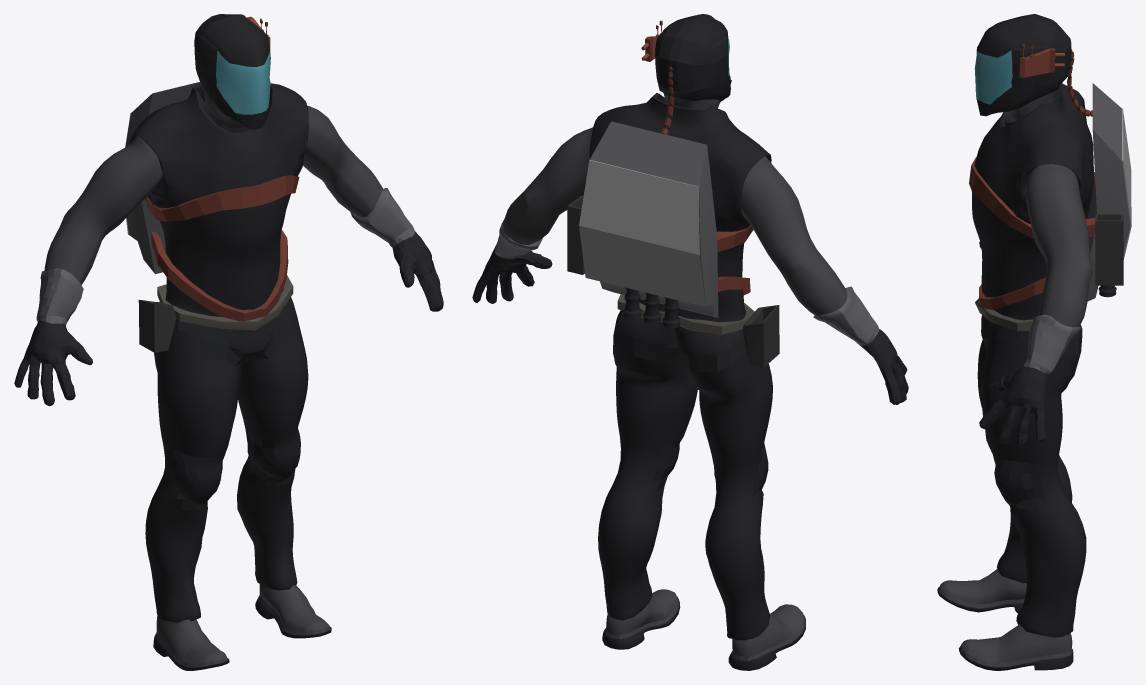
File: Astronauta.fbx
The picture shows the model from 3 angles, left to right: view 1: azimuth 30°, elevation 25°; view 2: azimuth 150°, elevation 25°; view 3: azimuth 270°, elevation 25°; orthographic projection.
Parts seen in each view (by area): view 1: Body, Restraint_Top, Backpack, Restraints_Bottom, Gun_Holster, Belt; view 2: Body, BackpackCover, Backpack, Gun_Holster, Belt, Shotgun_Holster; view 3: Body, Backpack, Shotgun_Holster, Restraint_Top, Restraints_Bottom, Illumination_System, BackpackCover, Belt, Oxygen_Tube.
Part boxes in pixels (<box>): Body: <box>14,14,443,670</box>; Restraint_Top: <box>144,175,299,221</box>; Backpack: <box>125,82,200,273</box>; Restraints_Bottom: <box>151,229,288,321</box>; Gun_Holster: <box>138,300,176,352</box>; Belt: <box>157,275,293,330</box>; Body: <box>472,14,908,670</box>; BackpackCover: <box>579,160,705,306</box>; Backpack: <box>589,121,718,317</box>; Gun_Holster: <box>742,305,779,367</box>; Belt: <box>617,294,754,334</box>; Shotgun_Holster: <box>567,195,584,274</box>; Body: <box>937,14,1093,670</box>; Backpack: <box>1087,83,1130,301</box>; Shotgun_Holster: <box>1095,214,1123,285</box>; Restraint_Top: <box>969,157,1095,238</box>; Restraints_Bottom: <box>979,277,1045,310</box>; Illumination_System: <box>1019,44,1055,77</box>; BackpackCover: <box>1122,108,1131,259</box>; Belt: <box>975,298,1032,331</box>; Oxygen_Tube: <box>1067,48,1092,116</box>.
Bounding box in the file's own units: 6.29 × 8.82 × 2.51.
